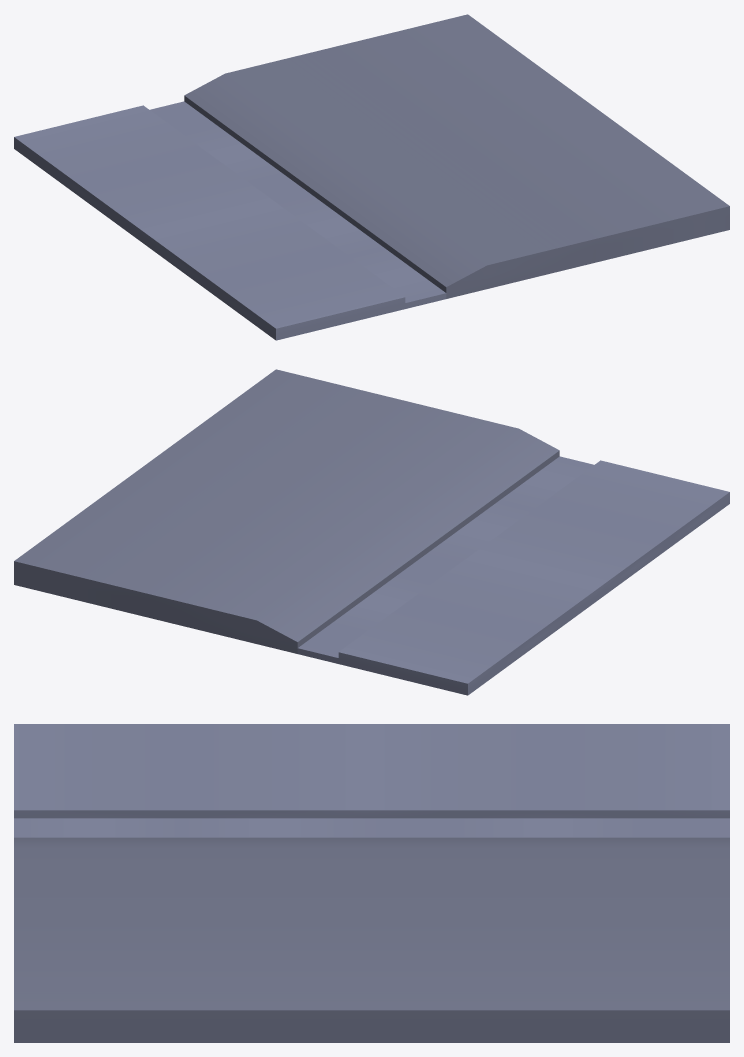
File: roadEdge.fbx
The picture shows the model from 3 angles, top to bottom: view 1: azimuth 30°, elevation 25°; view 2: azimuth 150°, elevation 25°; view 3: azimuth 270°, elevation 25°; orthographic projection. The views are drawn at different scales.
Visible parts, largest first — view 1: roadEdge; view 2: roadEdge; view 3: roadEdge.
Part boxes in pixels (box(x1,y1,x2,y2)): roadEdge: box(14, 14, 729, 340); roadEdge: box(14, 369, 729, 695); roadEdge: box(14, 724, 729, 1042).
Size of the model in its own units: 1 by 1 by 0.05.
